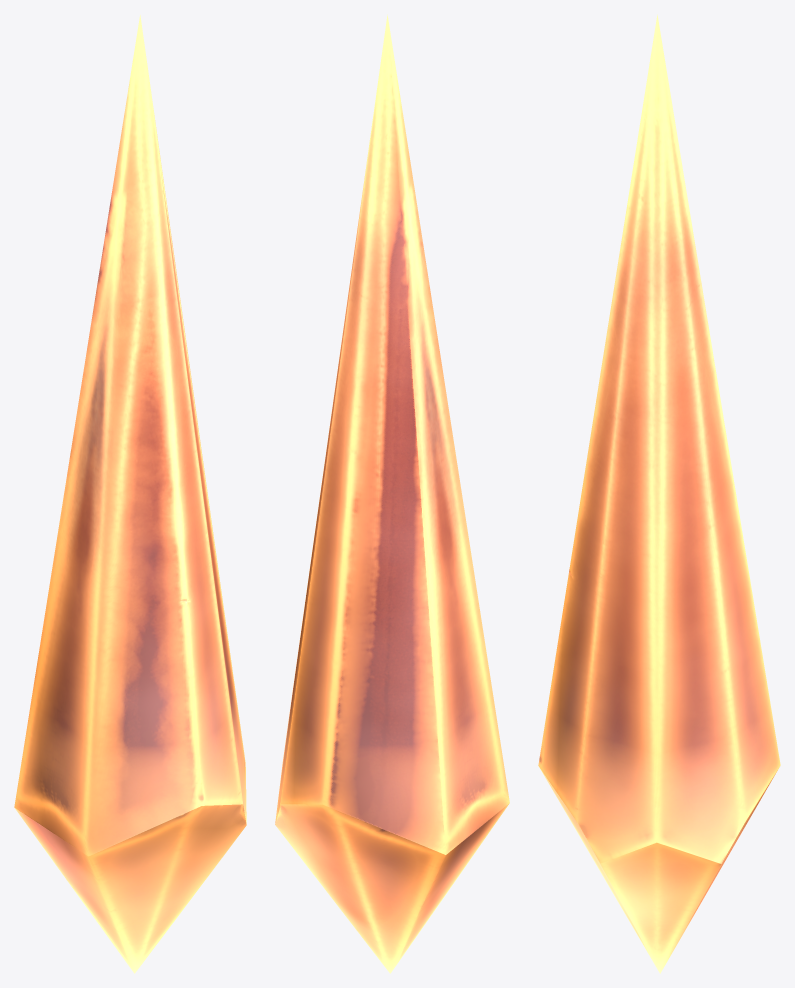
Rendered from crystal_sharp_single_red.fbx.
The picture shows the model from 3 angles, left to right: view 1: azimuth 30°, elevation 25°; view 2: azimuth 150°, elevation 25°; view 3: azimuth 270°, elevation 25°; orthographic projection.
Visible parts, largest first — view 1: crystal_sharp_single_red; view 2: crystal_sharp_single_red; view 3: crystal_sharp_single_red.
Part boxes in pixels (box(x1,y1,x2,y2)): crystal_sharp_single_red: box(14, 15, 246, 973); crystal_sharp_single_red: box(275, 14, 509, 973); crystal_sharp_single_red: box(538, 14, 780, 973).
Bounding box in the file's own units: 0.3176 × 1.48 × 0.3367.
